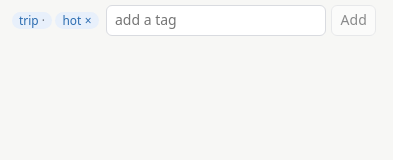
TagEditor › removes only the tags the name does not spell, and adds
Click the button named "remove tag hot". click: point(86, 21)
box: [81, 15, 92, 27]
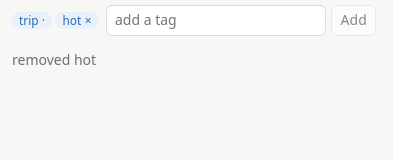
Expected: the text "removed hot" is shown, [12, 50, 96, 69]
Type "wip, x" into the field named "tag to add". click: point(216, 20)
box: [106, 5, 326, 36]
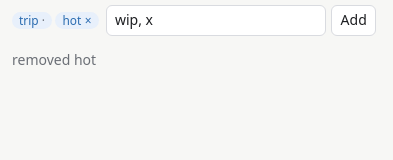
Click the button "Add". click: point(354, 20)
box: [331, 5, 376, 36]
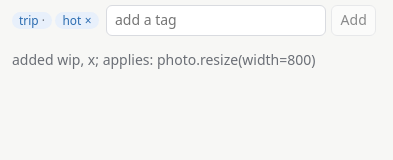
Expected: the text "added wip, x; applies: photo.resize(width=800)" is shown, [12, 50, 316, 69]
